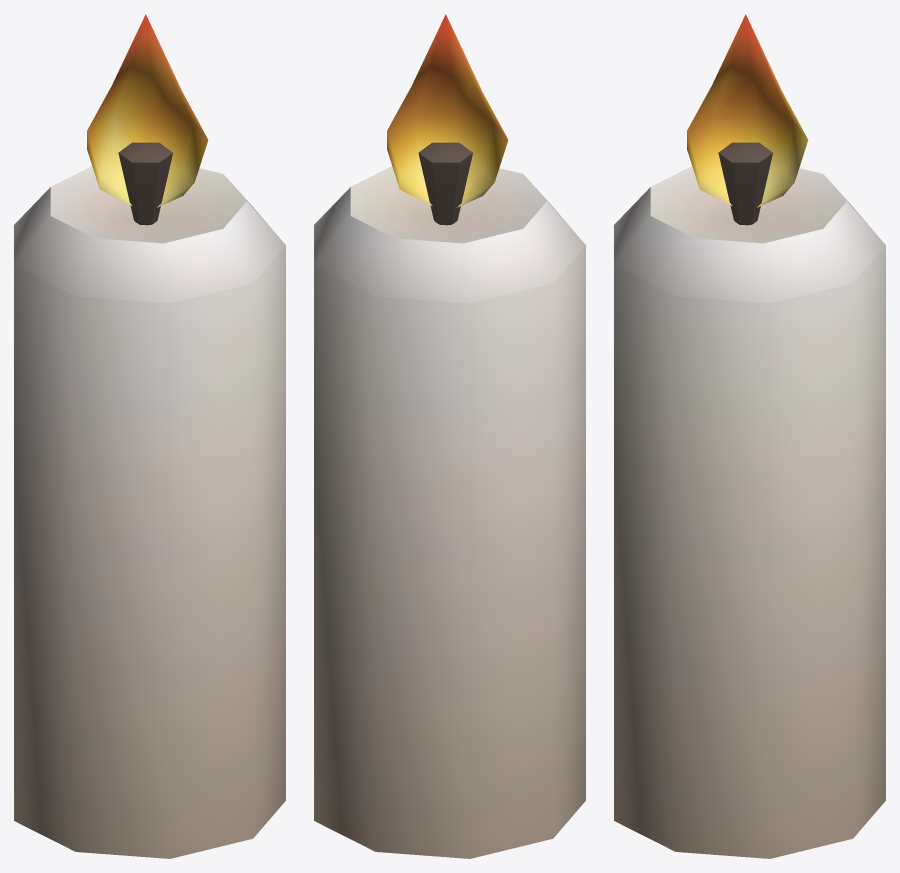
Rendered from kay-vela-acesa.gltf.
3 renders of one model, left to right at view 1: azimuth 30°, elevation 25°; view 2: azimuth 150°, elevation 25°; view 3: azimuth 270°, elevation 25°, orthographic.
Parts seen in each view (by area): view 1: candle_lit; view 2: candle_lit; view 3: candle_lit.
Boxes of the visible parts, left/top/right/bottom form: candle_lit: left=14, top=14, right=285, bottom=858; candle_lit: left=314, top=14, right=585, bottom=858; candle_lit: left=614, top=14, right=885, bottom=858.
Bounding box in the file's own units: 0.2174 × 0.6832 × 0.214.
Materials: 1 (1 with a texture image).
